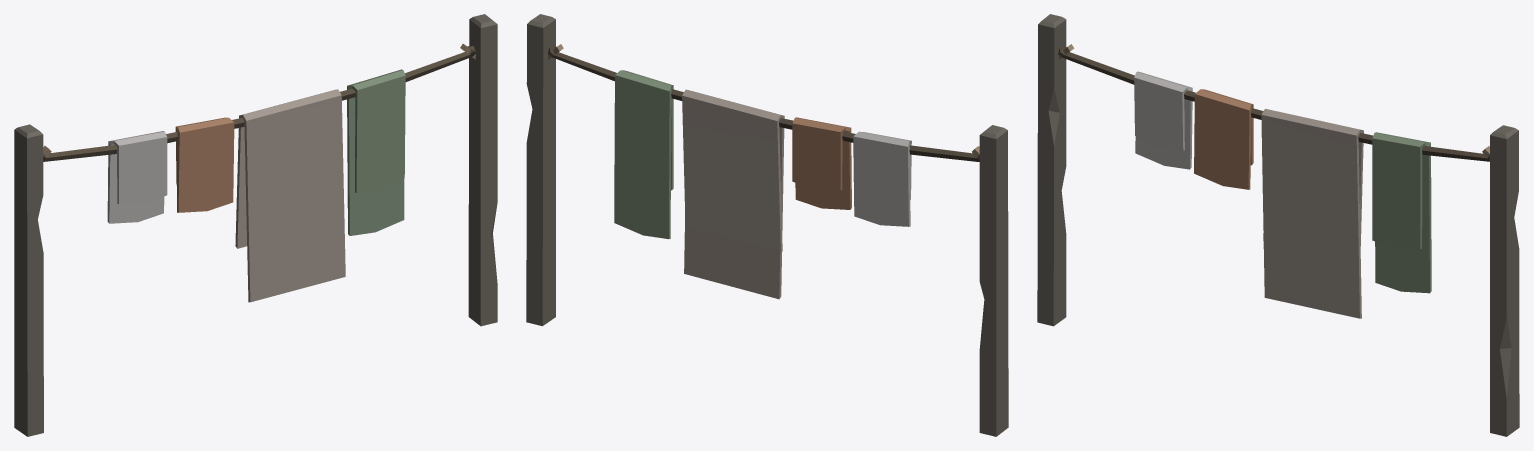
The model's file is SM_Prop_Washingline_Small_03.fbx.
3 views of the same model, side by side, from view 1: azimuth 30°, elevation 25°; view 2: azimuth 150°, elevation 25°; view 3: azimuth 330°, elevation 25° (orthographic).
Visible parts, largest first — view 1: SM_Prop_Washingline_Small_03, SM_Prop_Washingline_Small_Poles_03; view 2: SM_Prop_Washingline_Small_03, SM_Prop_Washingline_Small_Poles_03; view 3: SM_Prop_Washingline_Small_03, SM_Prop_Washingline_Small_Poles_03.
Part boxes in pixels (left/top/right/bottom): SM_Prop_Washingline_Small_03: left=43, top=44, right=475, bottom=302; SM_Prop_Washingline_Small_Poles_03: left=14, top=14, right=497, bottom=436; SM_Prop_Washingline_Small_03: left=547, top=44, right=979, bottom=299; SM_Prop_Washingline_Small_Poles_03: left=526, top=14, right=1008, bottom=436; SM_Prop_Washingline_Small_03: left=1058, top=44, right=1489, bottom=318; SM_Prop_Washingline_Small_Poles_03: left=1037, top=14, right=1519, bottom=436.
Bounding box in the file's own units: 418 × 255 × 19.64.
